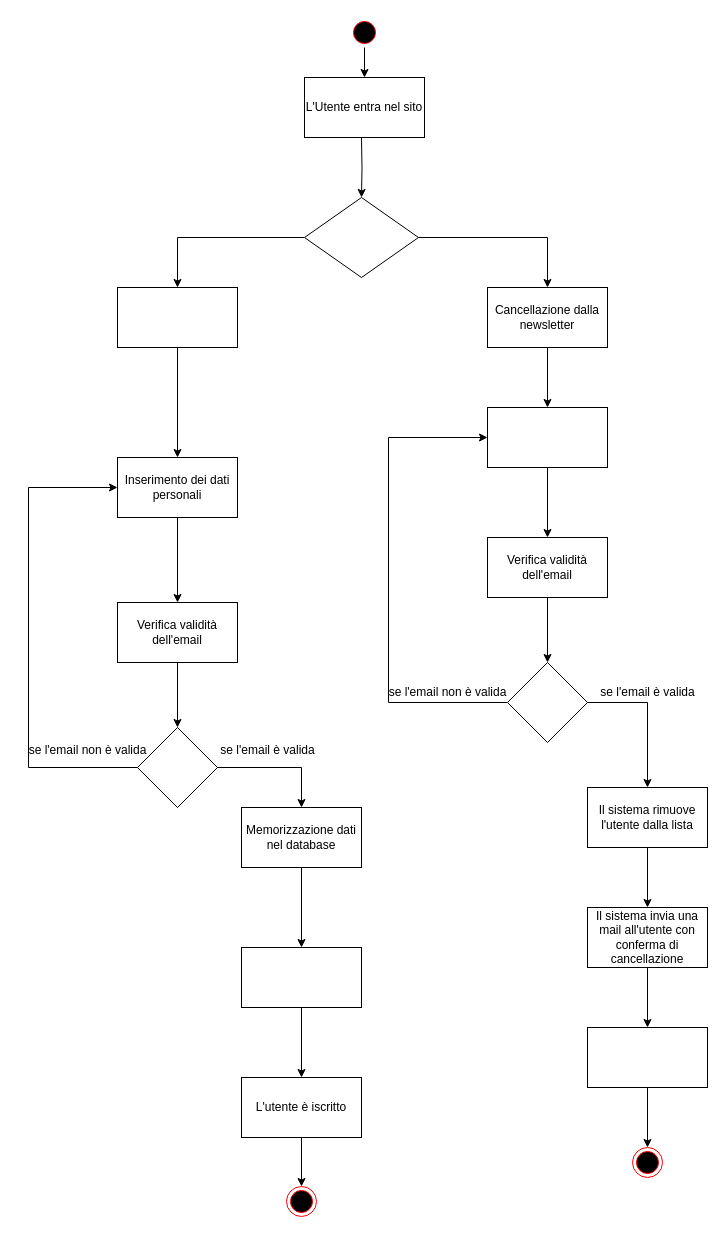
The diagram is 725 pixels wide and 1234 high, and some of its shapes have lost their labels. The centre of each missing label's shape, as x and y in pixels:
Il sistema invia una mail all'utente con il link di attivazione: point 301,977
Inserimento email da cancellare: point 547,437
Iscrizione alla newsletter: point 177,317
L'utente è cancellato dalla lista: point 647,1057
Scelta: point 361,237
